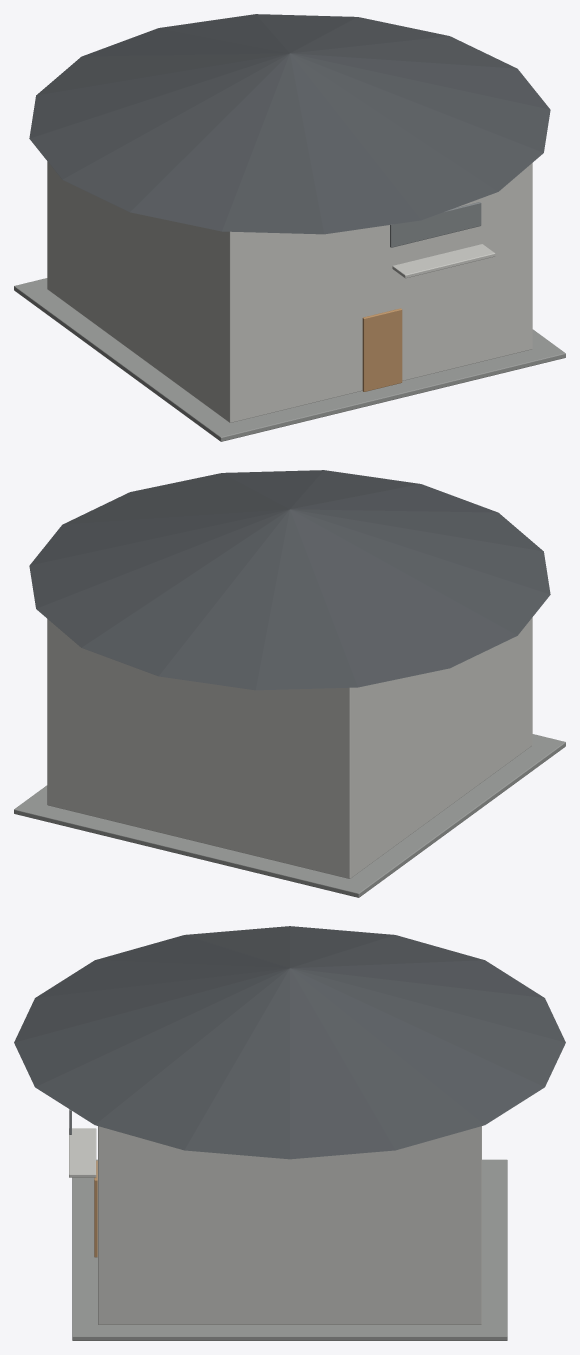
File: Building_Residential_024.glb
3 renders of one model, top to bottom at view 1: azimuth 30°, elevation 25°; view 2: azimuth 150°, elevation 25°; view 3: azimuth 270°, elevation 25°, orthographic. The views are drawn at different scales.
Visible parts, largest first — view 1: Building_Residential_024; view 2: Building_Residential_024; view 3: Building_Residential_024.
Boxes of the visible parts, left/top/right/bottom form: Building_Residential_024: left=14, top=14, right=565, bottom=441; Building_Residential_024: left=14, top=470, right=565, bottom=897; Building_Residential_024: left=14, top=926, right=565, bottom=1340.
Bounding box in the file's own units: 16.12 × 9.17 × 16.12.
